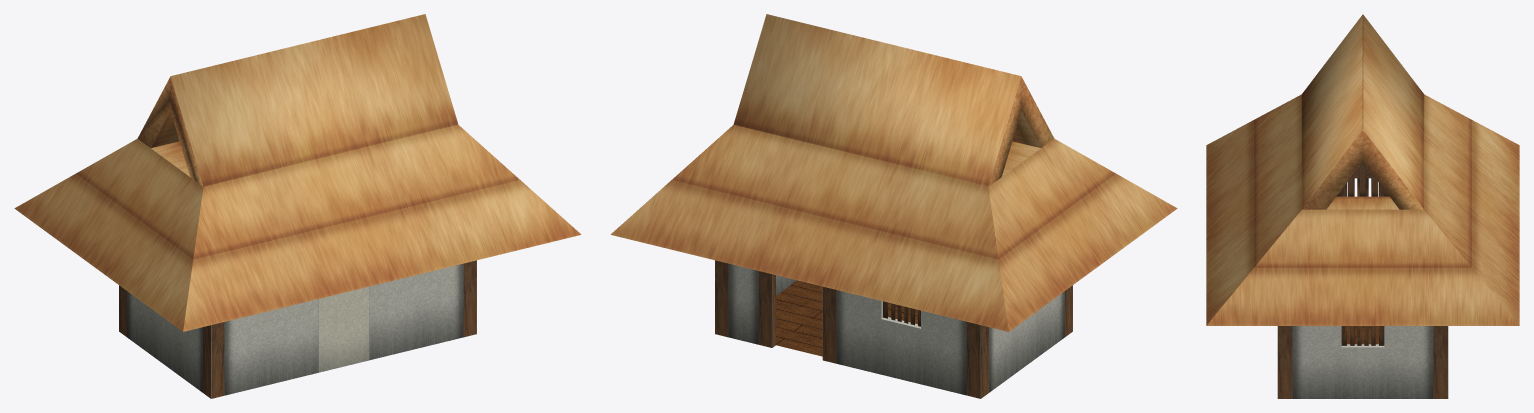
Rendered from village_house.fbx.
3 views of the same model, side by side, from view 1: azimuth 30°, elevation 25°; view 2: azimuth 150°, elevation 25°; view 3: azimuth 270°, elevation 25° (orthographic). The views are drawn at different scales.
Visible parts, largest first — view 1: roof, house; view 2: roof, house; view 3: roof, house.
Part boxes in pixels (x1,y1,x2,y2): roof: (14,14,581,331); house: (119,260,476,398); roof: (610,14,1177,331); house: (715,260,1072,398); roof: (1206,14,1519,325); house: (1277,166,1448,398).
Size of the model in its own units: 750 by 517 by 550.
